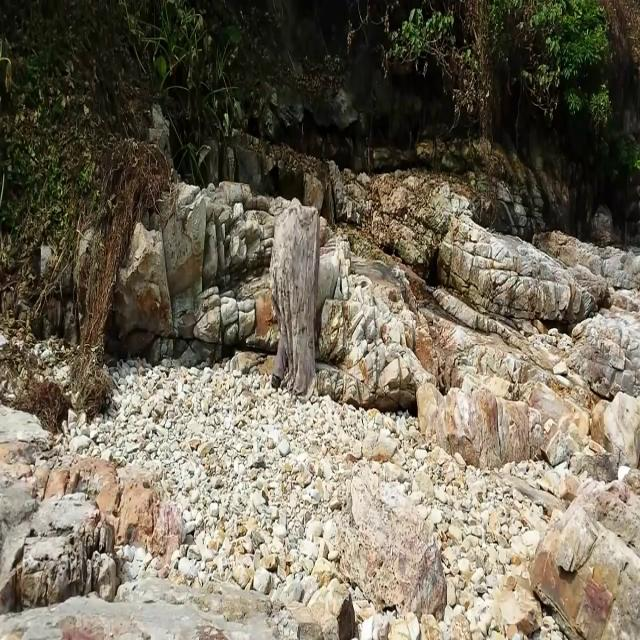Camouflage: (268, 197, 326, 399)
